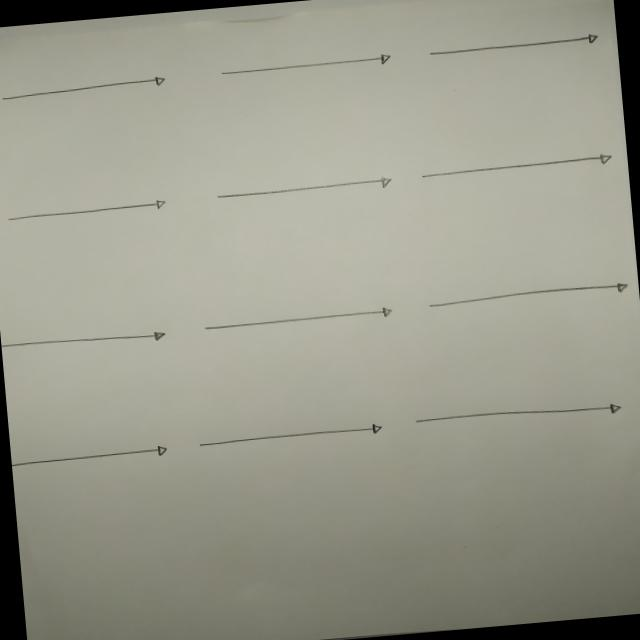arrow_line_right: (405, 388, 626, 437), (418, 276, 637, 318), (194, 298, 400, 342), (188, 414, 400, 456), (410, 150, 624, 187), (0, 319, 175, 362), (206, 48, 400, 86), (0, 70, 178, 110), (206, 170, 394, 206), (420, 29, 608, 64), (10, 436, 176, 474), (0, 194, 179, 228)
